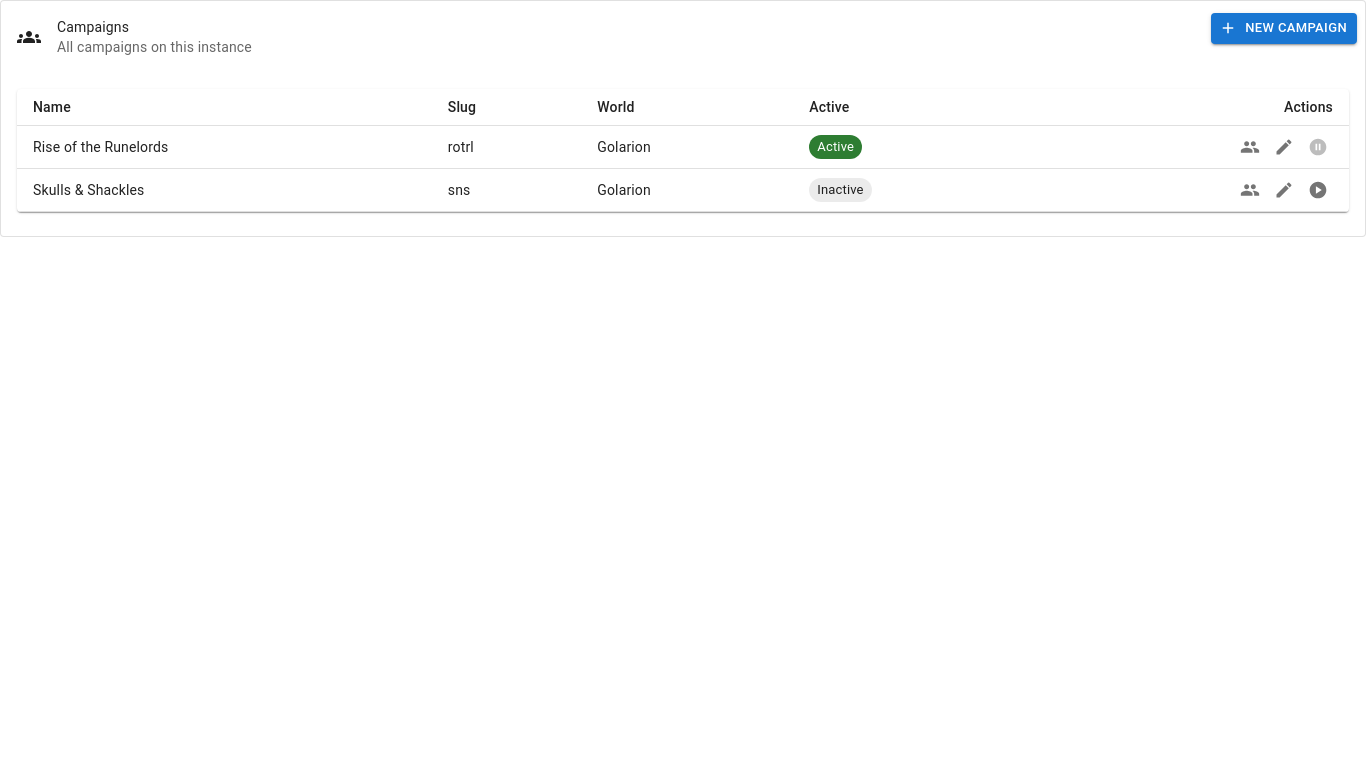
Test: CampaignAdministration › shows the server message when the save fails
Click the button named "Edit Rise of the Runelords". click: (1284,147)
box: top-left (1269, 132), bottom-right (1299, 162)
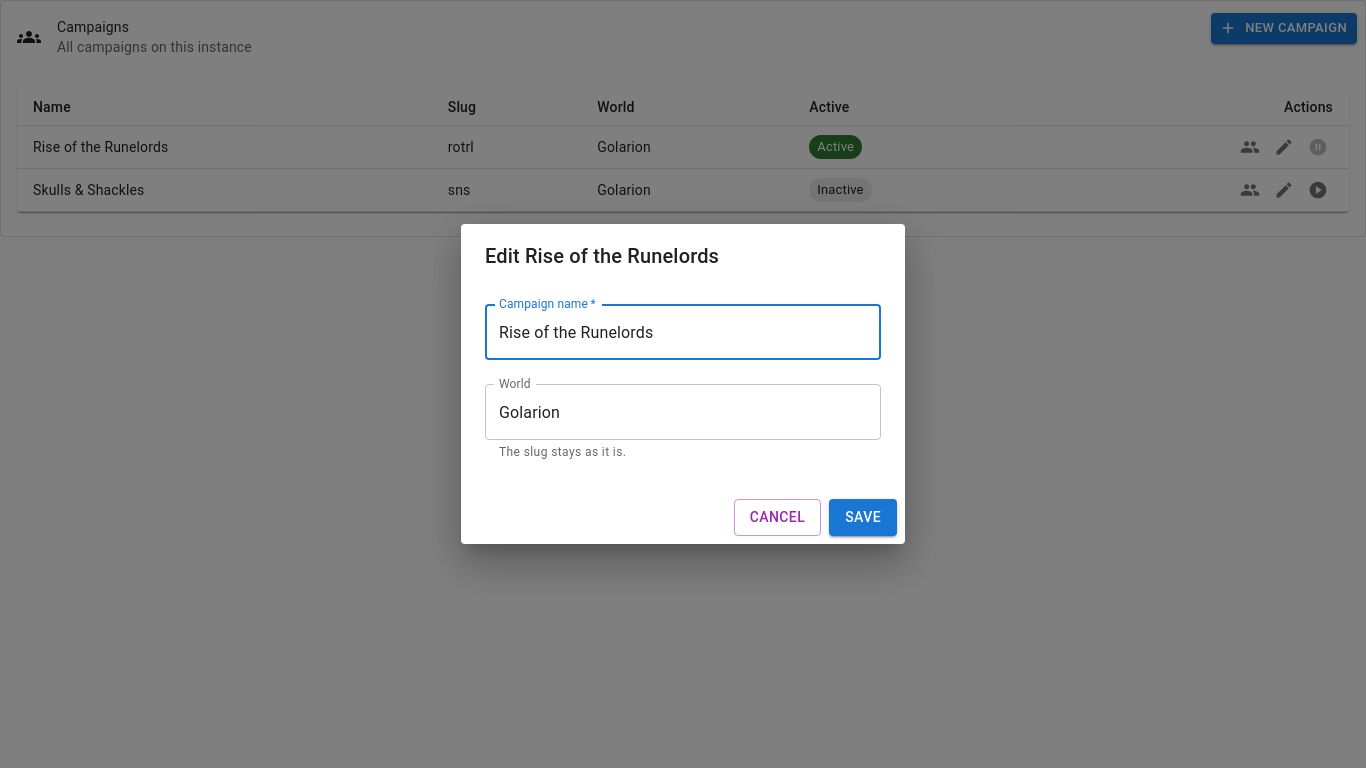
Click the button "Save". click: (863,517)
box: top-left (829, 499), bottom-right (897, 536)
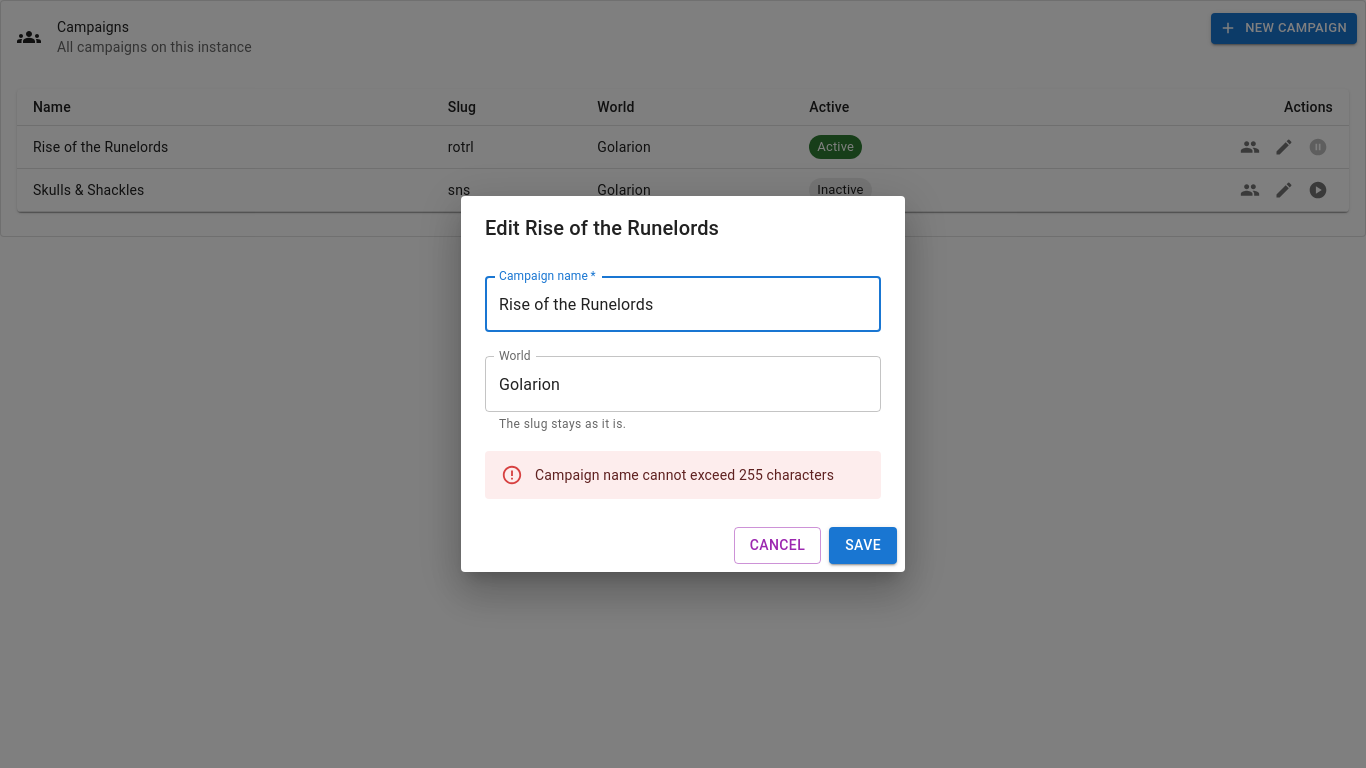
Expected: the text "Campaign name cannot exceed 255 characters" is shown, top-left (535, 467), bottom-right (834, 483)
